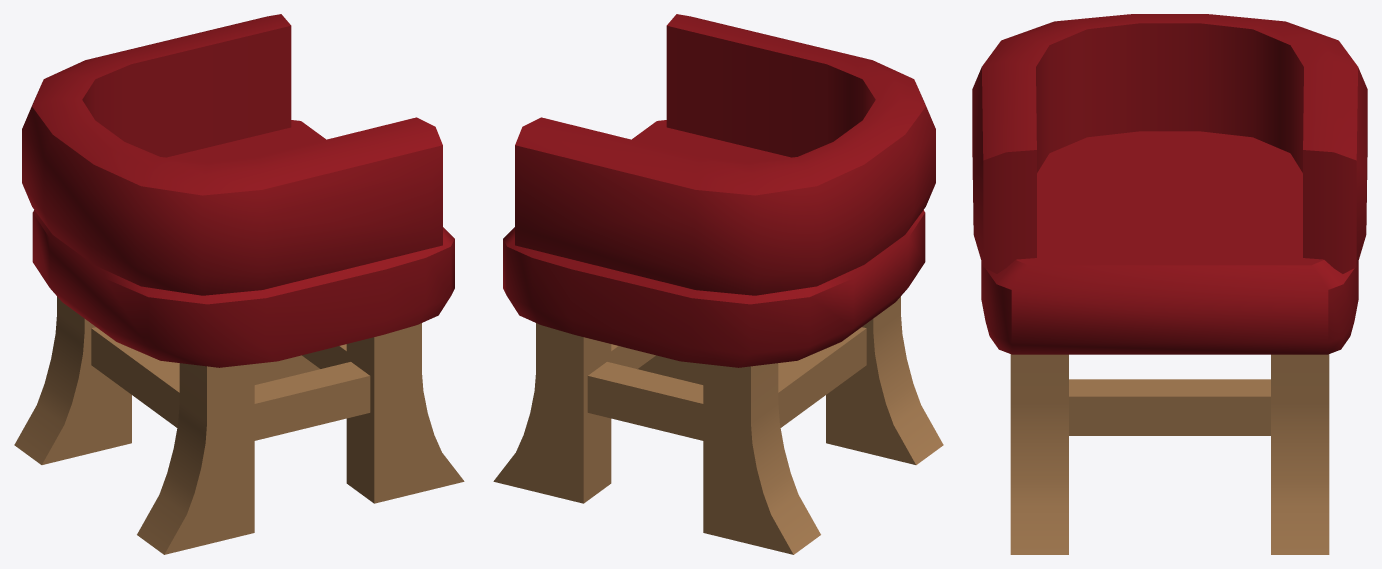
File: Environment_Chair2.fbx
3 renders of one model, left to right at view 1: azimuth 30°, elevation 25°; view 2: azimuth 150°, elevation 25°; view 3: azimuth 270°, elevation 25°, orthographic. The views are drawn at different scales.
Visible parts, largest first — view 1: Environment_Chair2; view 2: Environment_Chair2; view 3: Environment_Chair2.
Boxes of the visible parts, left/top/right/bottom form: Environment_Chair2: left=14, top=14, right=464, bottom=554; Environment_Chair2: left=493, top=14, right=943, bottom=554; Environment_Chair2: left=972, top=14, right=1367, bottom=554.
Size of the model in its own units: 98.25 by 105 by 97.7.
